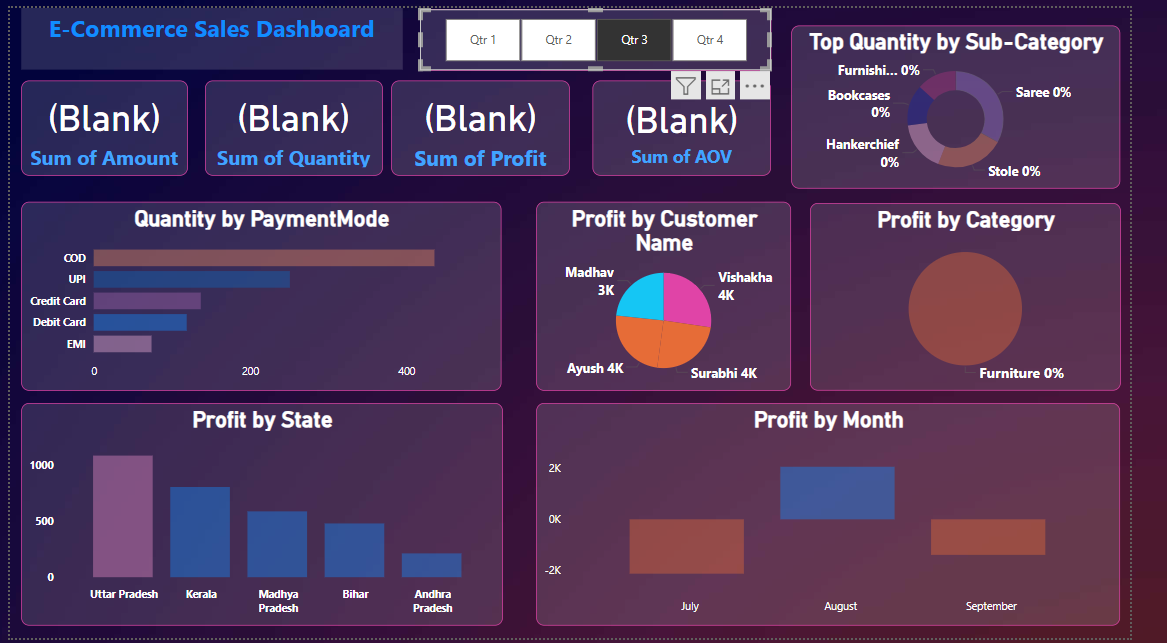

What the dashboard file says about the page in this screenshot:
{"tool":"powerbi","page":{"name":"Page 1","canvas":[1280,720],"ordinal":0},"visuals":[{"type":"textbox","box":[12.9,0,435.7,70],"z":0},{"type":"columnChart","title":"Profit by Month","fields":{"Category":["Orders.Order Date.Variation.Date Hierarchy.Month"],"Y":["Details.Profit"]},"box":[601.4,451.4,667.1,254.3],"z":1000},{"type":"pieChart","title":"Profit by Category","fields":{"Y":["Details.Profit"],"Series":["Details.Category"]},"box":[913.9,222.3,355.4,214.1],"z":2000},{"type":"card","fields":{"Values":["Details.Amount"]},"box":[12.9,82.9,190,108.6],"z":3000},{"type":"card","fields":{"Values":["Details.Quantity"]},"box":[222.9,82.9,202.9,108.6],"z":4000},{"type":"card","fields":{"Values":["Details.Profit"]},"box":[435.7,82.9,204.3,108.6],"z":5000},{"type":"card","fields":{"Values":["Details.Avg"]},"box":[665.7,82.9,204.3,108.6],"z":6000},{"type":"columnChart","title":" Profit by State","fields":{"Category":["Orders.State"],"Y":["Details.Profit"]},"box":[12.9,451.4,550,254.3],"z":7000},{"type":"barChart","title":" Quantity by PaymentMode","fields":{"Category":["Details.PaymentMode"],"Y":["Details.Quantity"]},"box":[12.9,221.4,548.6,215.7],"z":8000},{"type":"donutChart","title":"Top Quantity by Sub-Category","fields":{"Category":["Details.Sub-Category"],"Y":["Details.Quantity"]},"box":[893.3,20.6,376,186.6],"z":9000},{"type":"pieChart","title":"Profit by Customer Name","fields":{"Y":["Details.Amount"],"Category":["Orders.CustomerName"]},"box":[601.4,221.4,291.4,215.7],"z":9001},{"type":"slicer","fields":{"Values":["Orders.Order Date.Variation.Date Hierarchy.Quarter"]},"box":[468.6,1.4,401.4,70],"z":9002}]}

Visuals, with their boxes in screenshot pixels (x1, y1, x2, y2), scaled from the page's 1280x720 canvas onto the 1167x643 screenshot:
textbox: select_region(12, 0, 409, 63)
"Profit by Month" columnChart: select_region(548, 403, 1157, 630)
"Profit by Category" pieChart: select_region(833, 199, 1157, 390)
card - Details.Amount: select_region(12, 74, 185, 171)
card - Details.Quantity: select_region(203, 74, 388, 171)
card - Details.Profit: select_region(397, 74, 584, 171)
card - Details.Avg: select_region(607, 74, 793, 171)
" Profit by State" columnChart: select_region(12, 403, 513, 630)
" Quantity by PaymentMode" barChart: select_region(12, 198, 512, 390)
"Top Quantity by Sub-Category" donutChart: select_region(814, 18, 1157, 185)
"Profit by Customer Name" pieChart: select_region(548, 198, 814, 390)
slicer - Orders.Order Date.Variation.Date Hierarchy.Quarter: select_region(427, 1, 793, 64)
